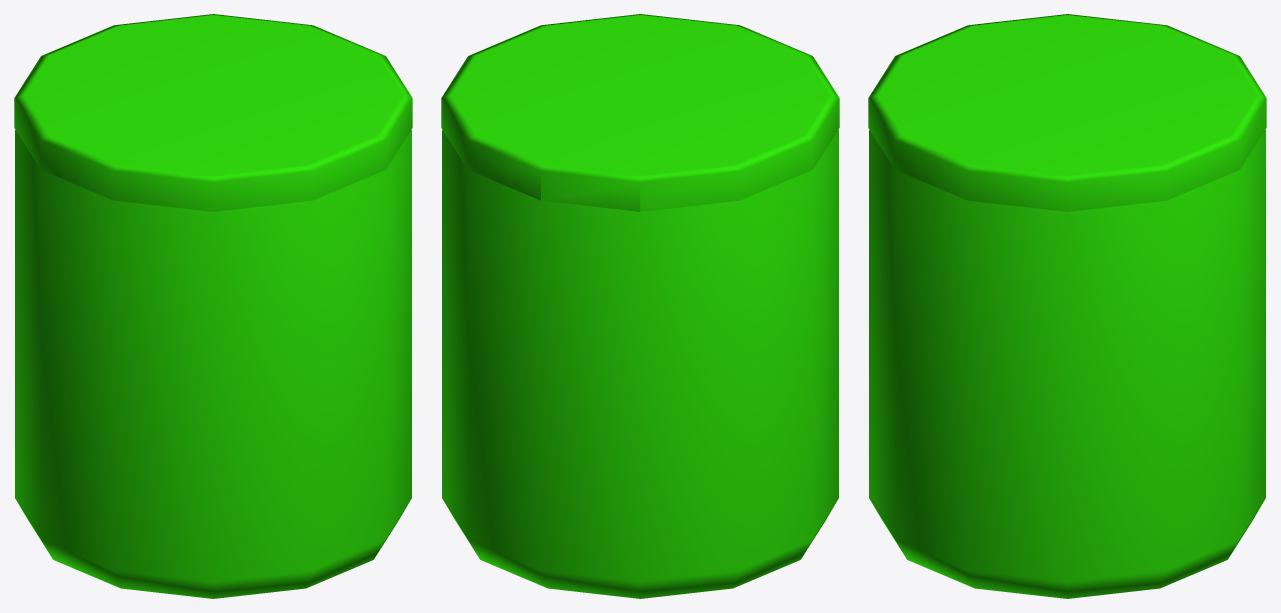
File: Pot_04_Lod0.fbx
3 renders of one model, left to right at view 1: azimuth 30°, elevation 25°; view 2: azimuth 150°, elevation 25°; view 3: azimuth 270°, elevation 25°, orthographic.
Parts seen in each view (by area): view 1: Pot_04_Lod0; view 2: Pot_04_Lod0; view 3: Pot_04_Lod0.
Part boxes in pixels (left/top/right/bottom): Pot_04_Lod0: left=14, top=14, right=412, bottom=598; Pot_04_Lod0: left=441, top=14, right=839, bottom=598; Pot_04_Lod0: left=868, top=14, right=1266, bottom=598.
Size of the model in its own units: 25.77 by 31.37 by 25.77.
